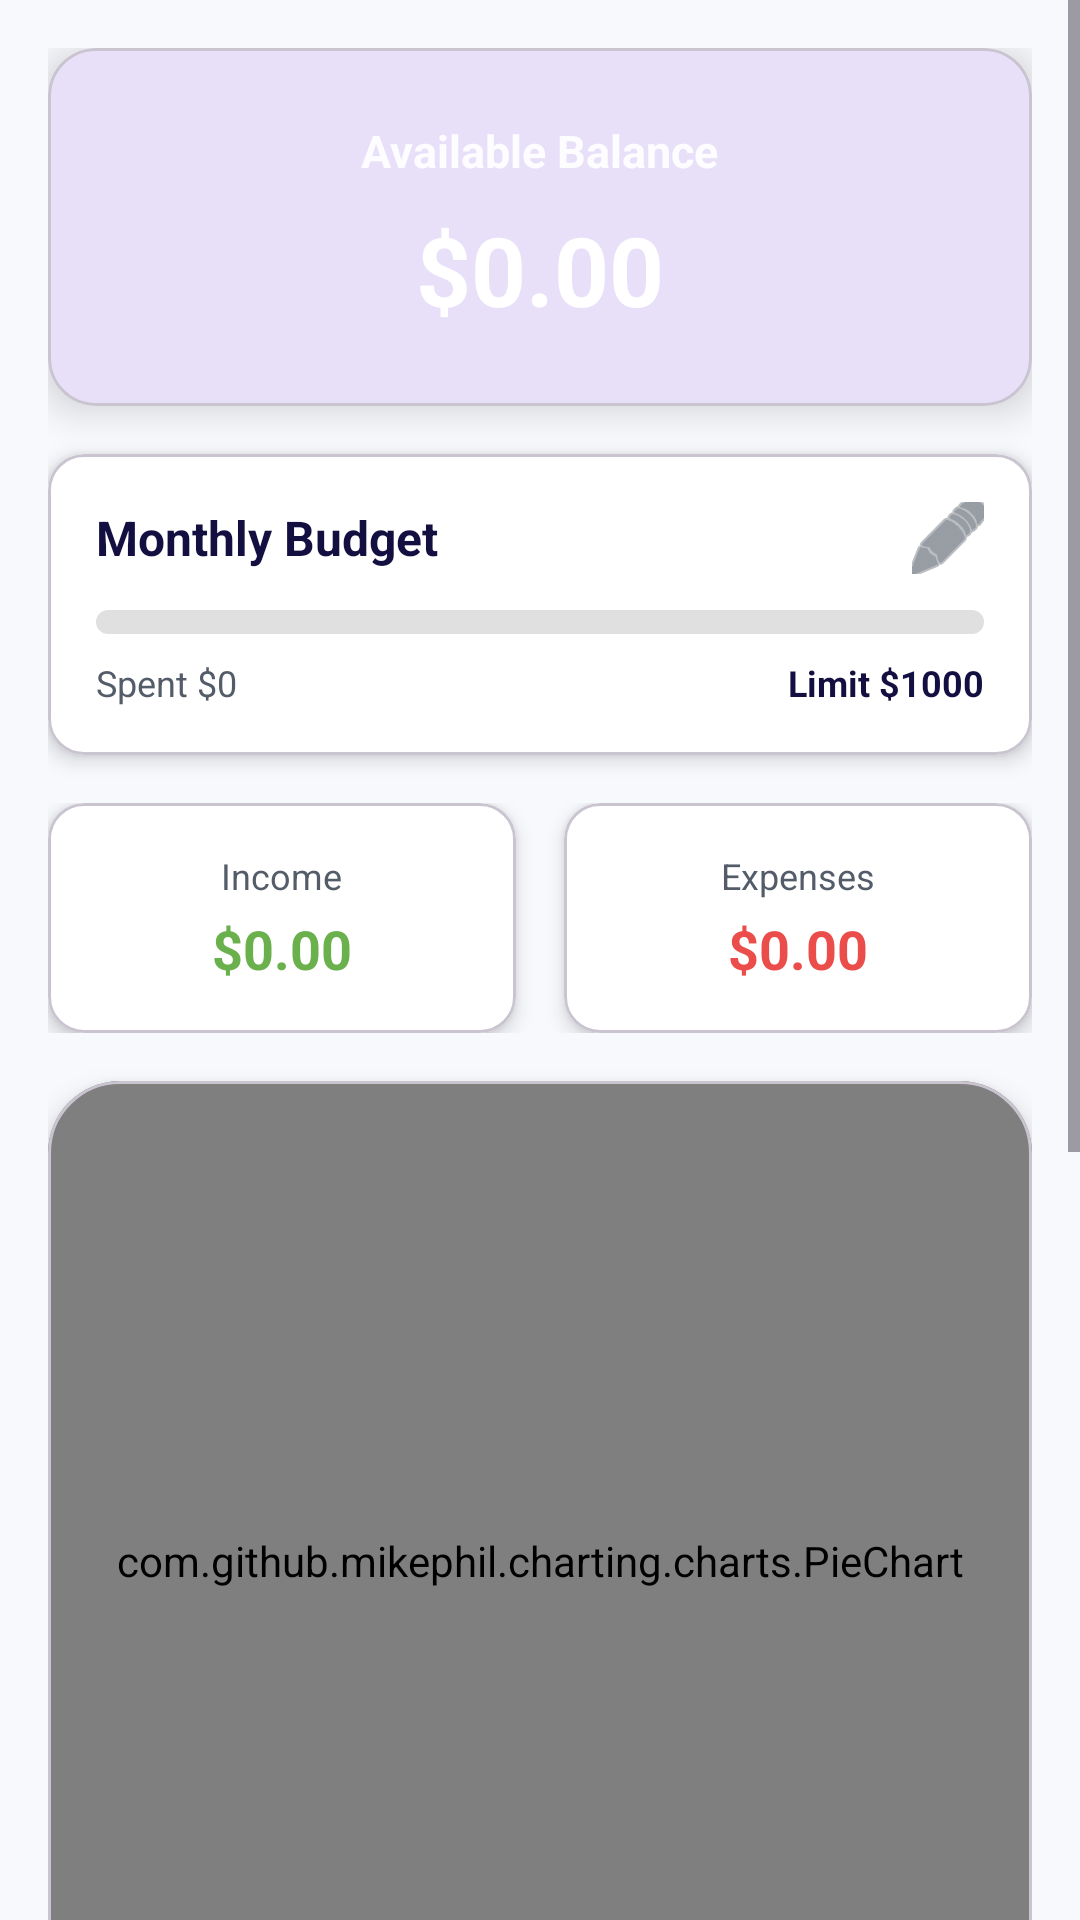

Icon click points for this 1080×1920 phone screenshot, format point (x, y):
edit: point (948, 538)
